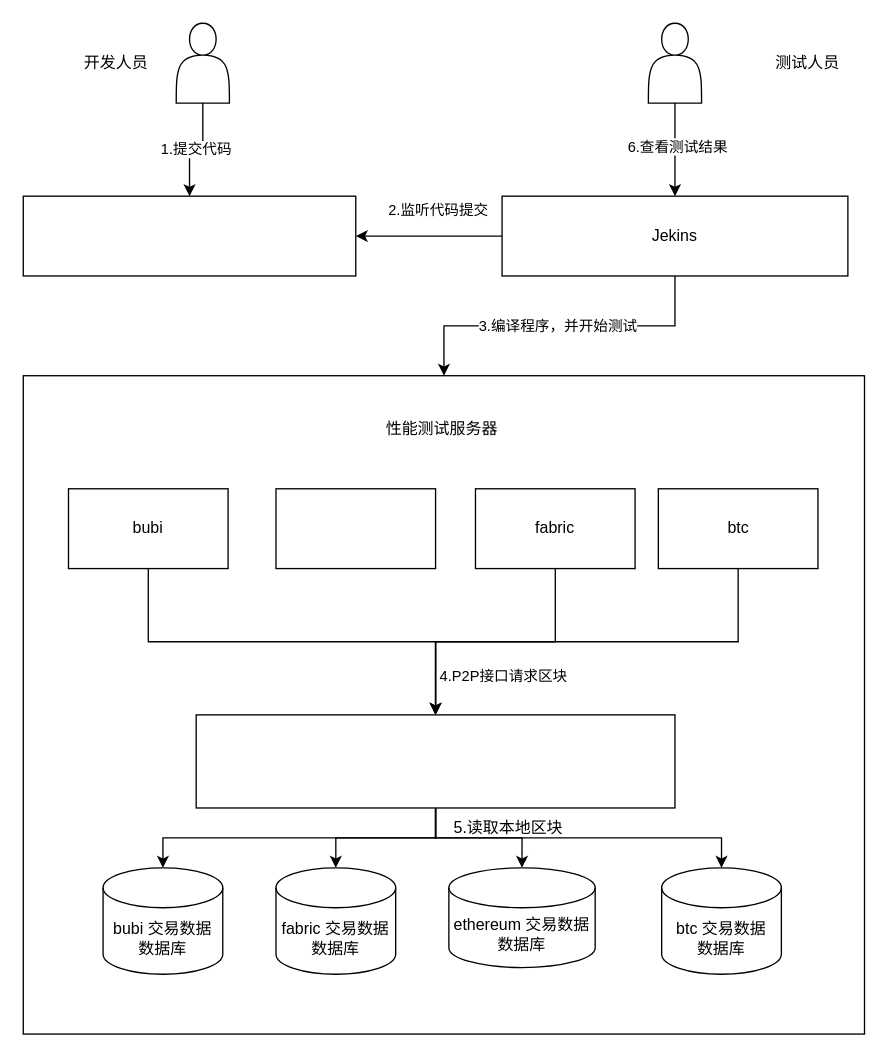
Some shapes in this 888 by 1057 pixel diagram are drawn without their labels. The shapes that lost their labels are listed below. From the top down, each one's centre as x and y in pixels, then its label:
At [189,235]: "github".
At [355,528]: "ethereum".
At [435,761]: "P2P接口适配器（新开发程序）".
